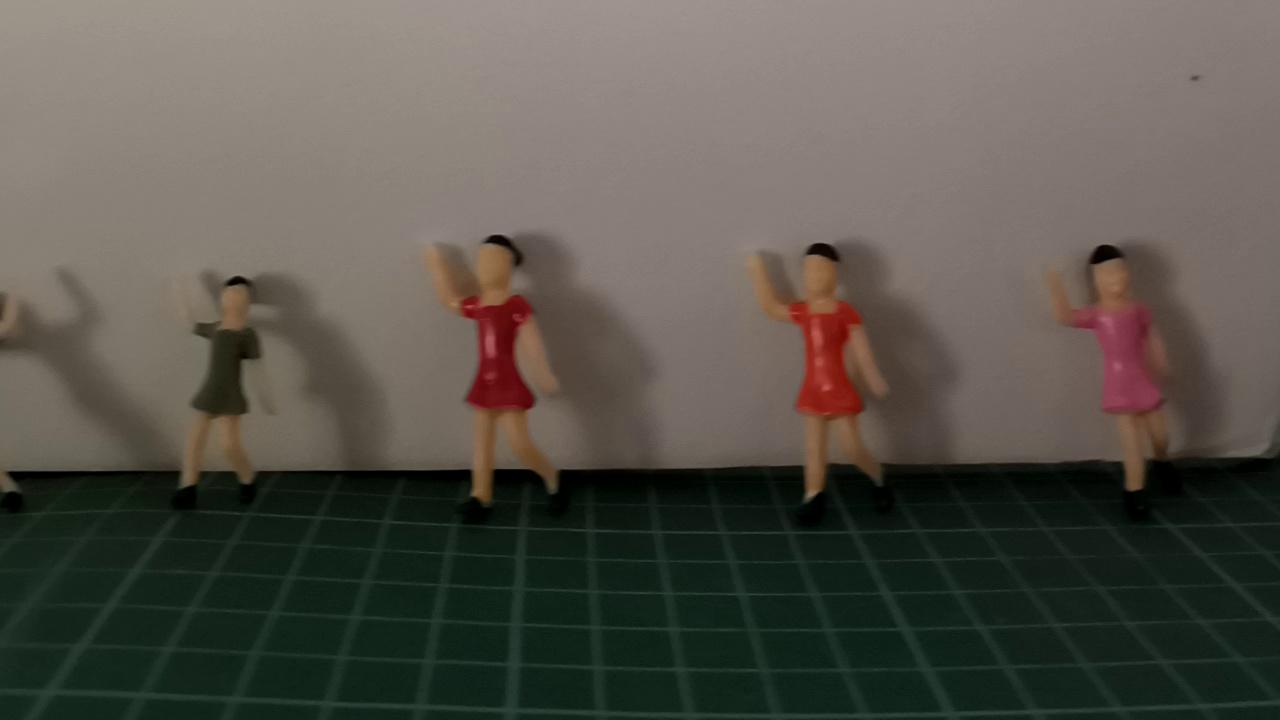human: (416, 230, 579, 529), (1028, 239, 1197, 511), (744, 234, 904, 512), (156, 258, 288, 503), (0, 280, 45, 514)
